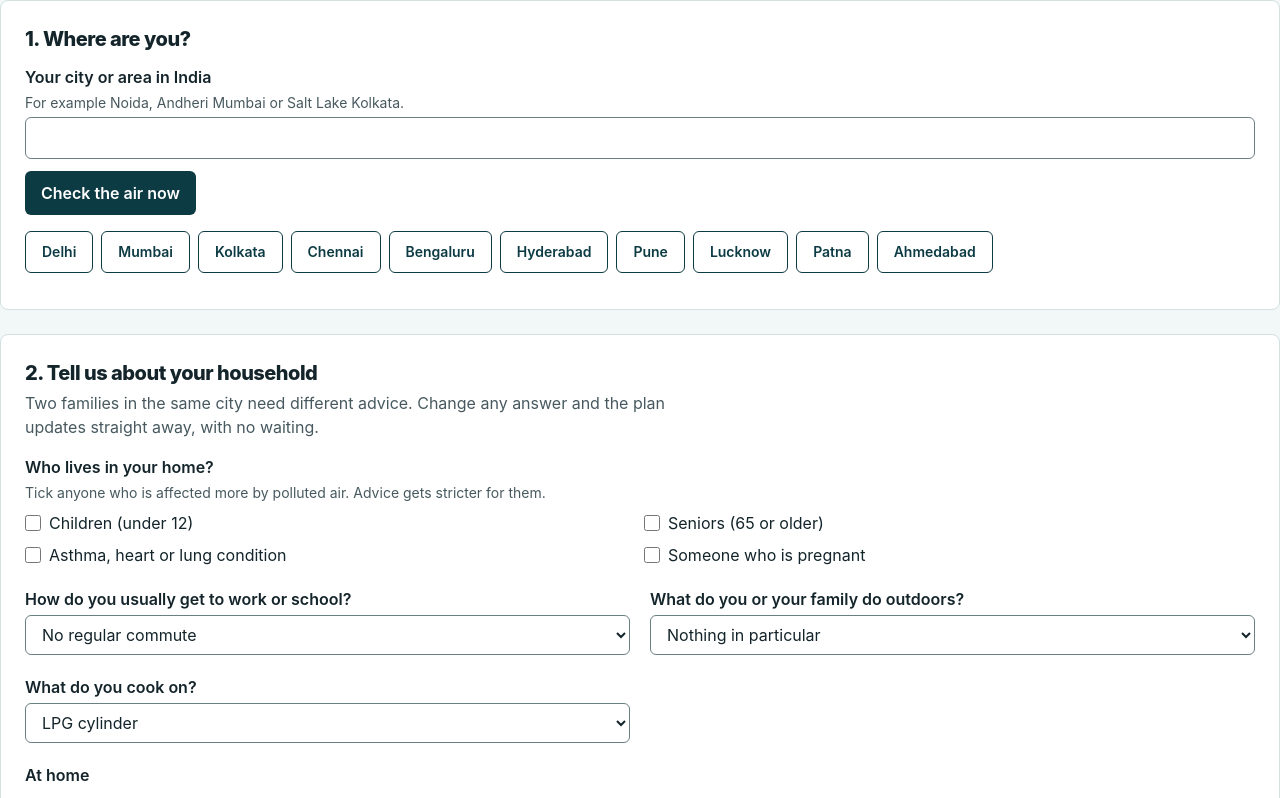
Scenario: re-planning when the household changes › updates the advice instantly, with no new network request
Click the button "Delhi".
click(59, 252)  # box [25, 231, 93, 273]
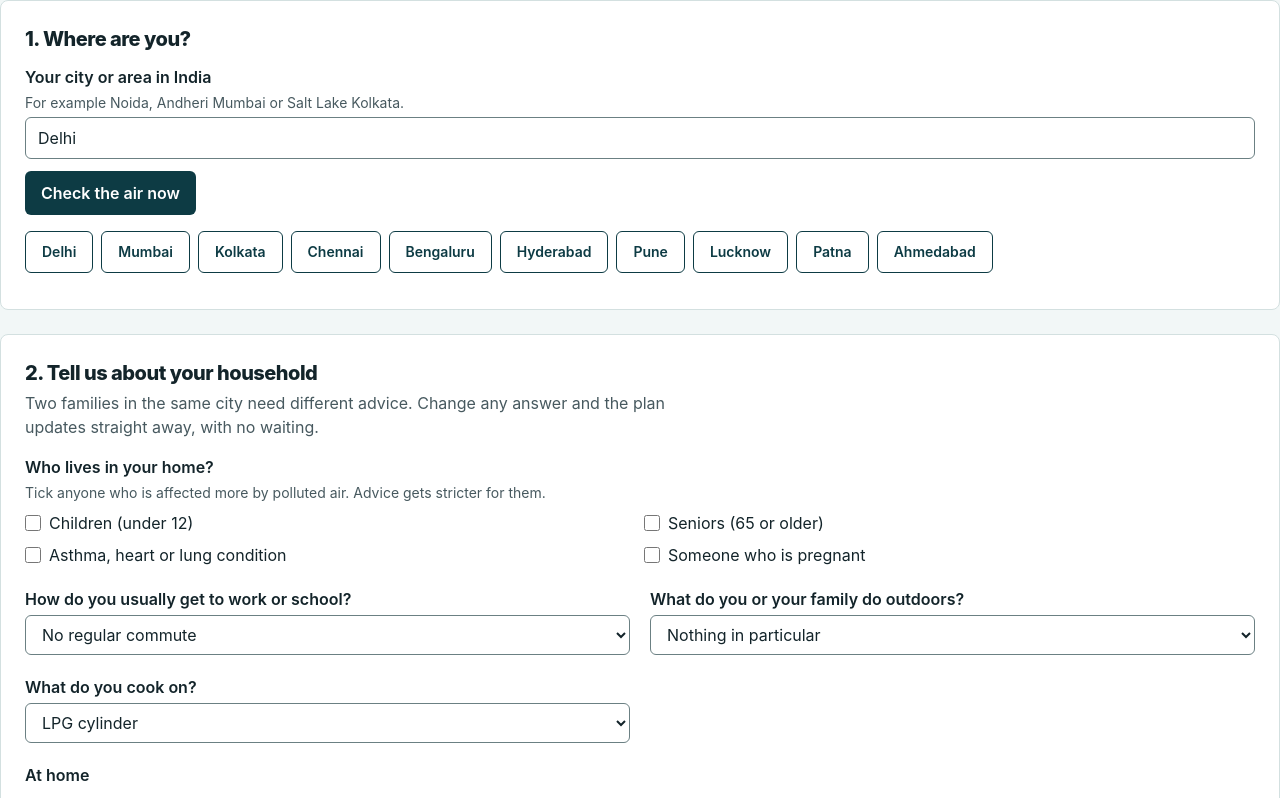
Expected: the heading "move play indoors today" is not shown
Click the checkbox labelled "Children (under 12)".
click(33, 523)  # box [25, 515, 41, 531]
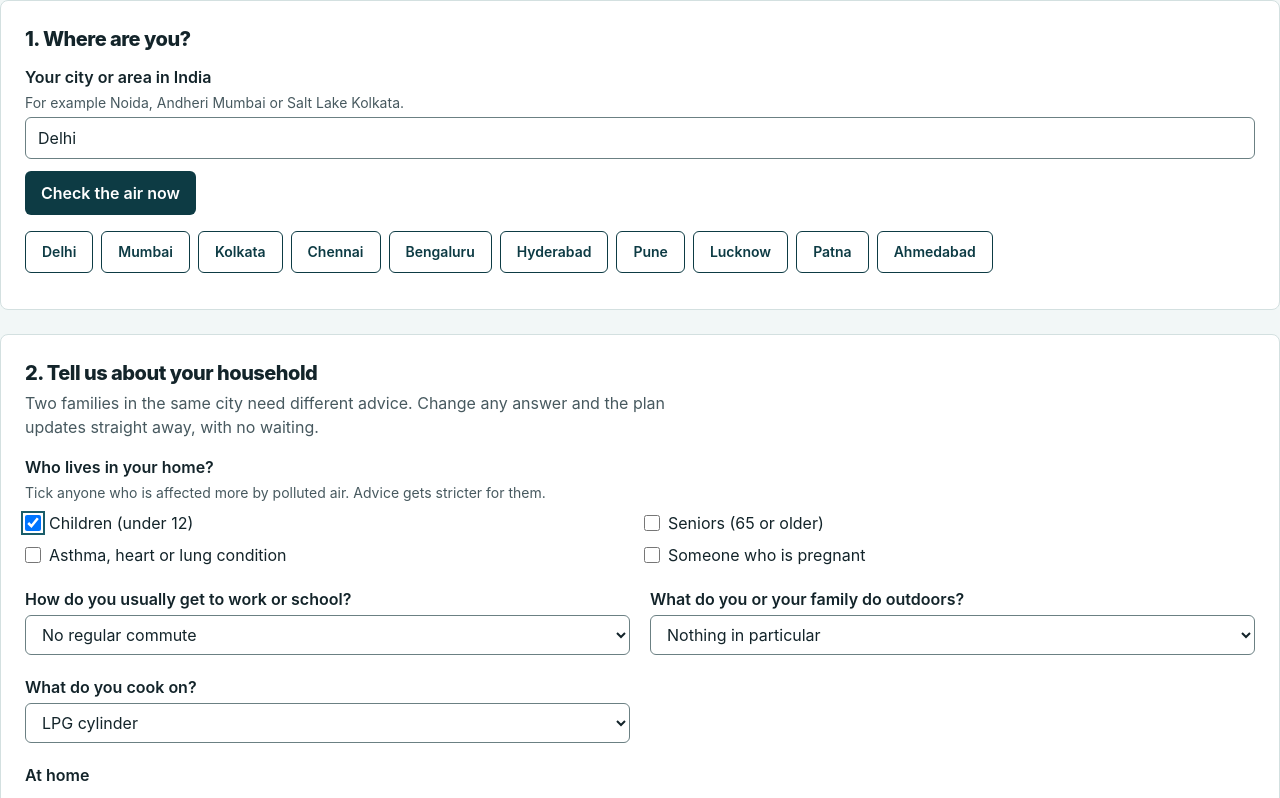
Select "Children playing outside" in the dropdown labelled "What do you or your family do outdoors?" at (952,635), box [650, 615, 1255, 655]
(page scrolled)
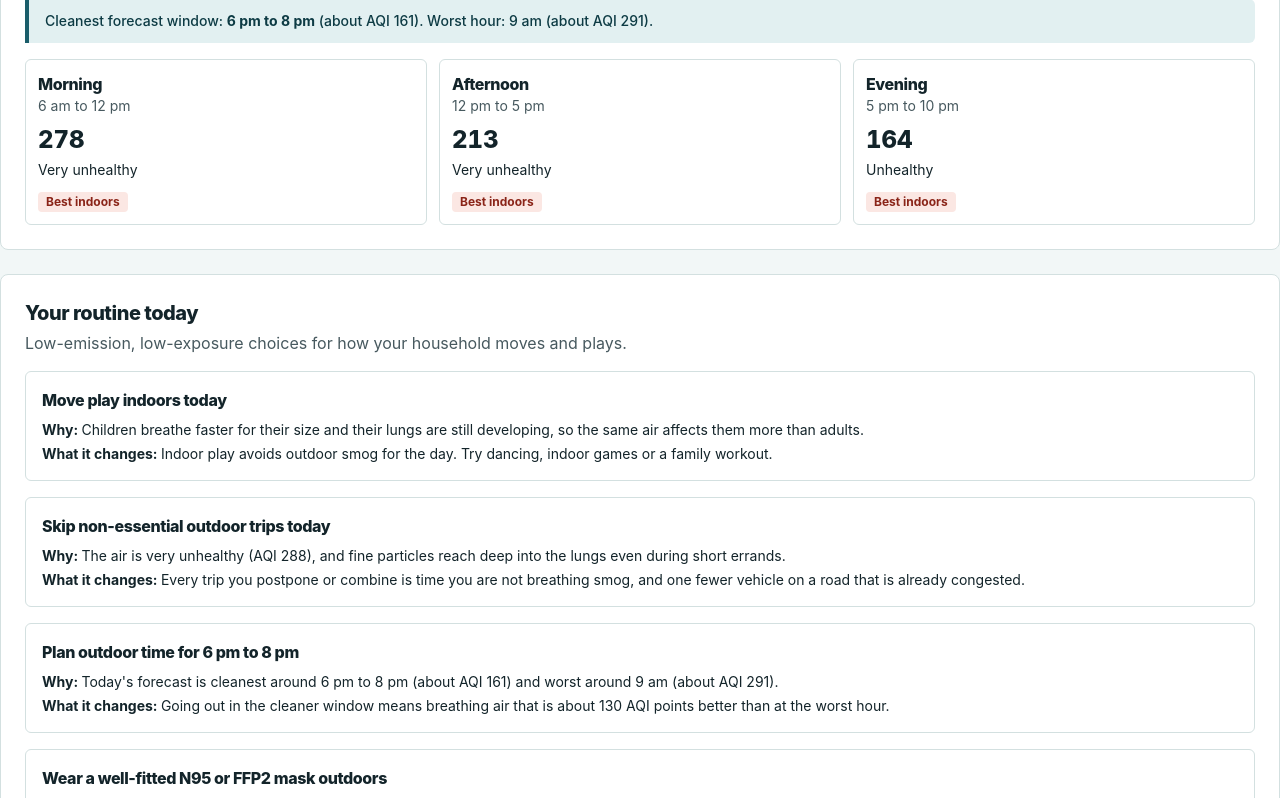
Result: the heading "Move play indoors today" is shown at [42, 390, 227, 410]
